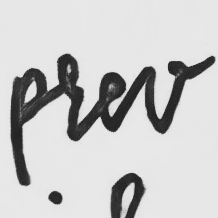e: (94, 68, 131, 133)
p: (7, 64, 50, 188)
r: (52, 52, 90, 144)
v: (138, 58, 191, 135)
